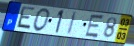1: (54, 9, 66, 35)
8: (103, 17, 118, 39)
E: (83, 14, 106, 39), (15, 5, 36, 31)
I: (65, 11, 78, 36)
O: (32, 7, 52, 33)
